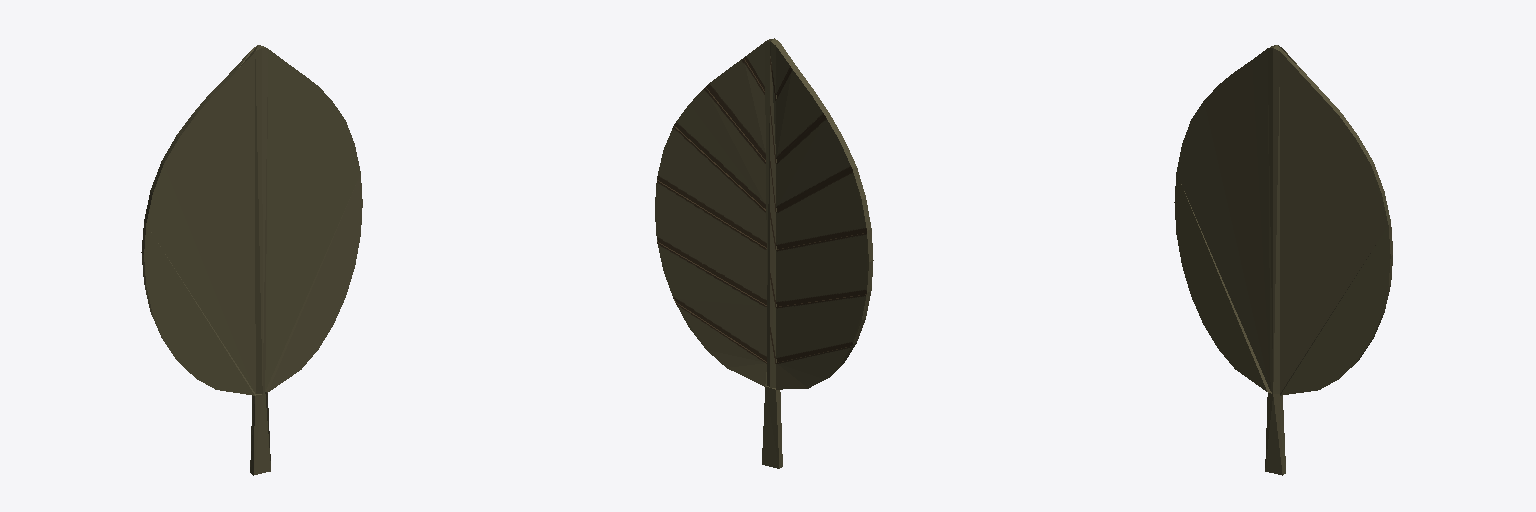
The picture shows the model from 3 angles: view 1: azimuth 30°, elevation 25°; view 2: azimuth 150°, elevation 25°; view 3: azimuth 330°, elevation 25°; orthographic projection.
Visible parts, largest first — view 1: 円柱; view 2: 円柱; view 3: 円柱.
Boxes of the visible parts, x1=… form: 円柱: x1=141, y1=45, x2=362, y2=475; 円柱: x1=655, y1=38, x2=873, y2=468; 円柱: x1=1174, y1=45, x2=1392, y2=475.
Bounding box in the file's own units: 1.25 × 2.34 × 0.134.
1 materials, 1 textured.